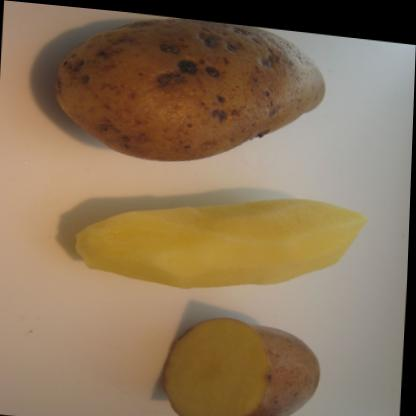--: (33, 3, 332, 172), (61, 160, 381, 301)
